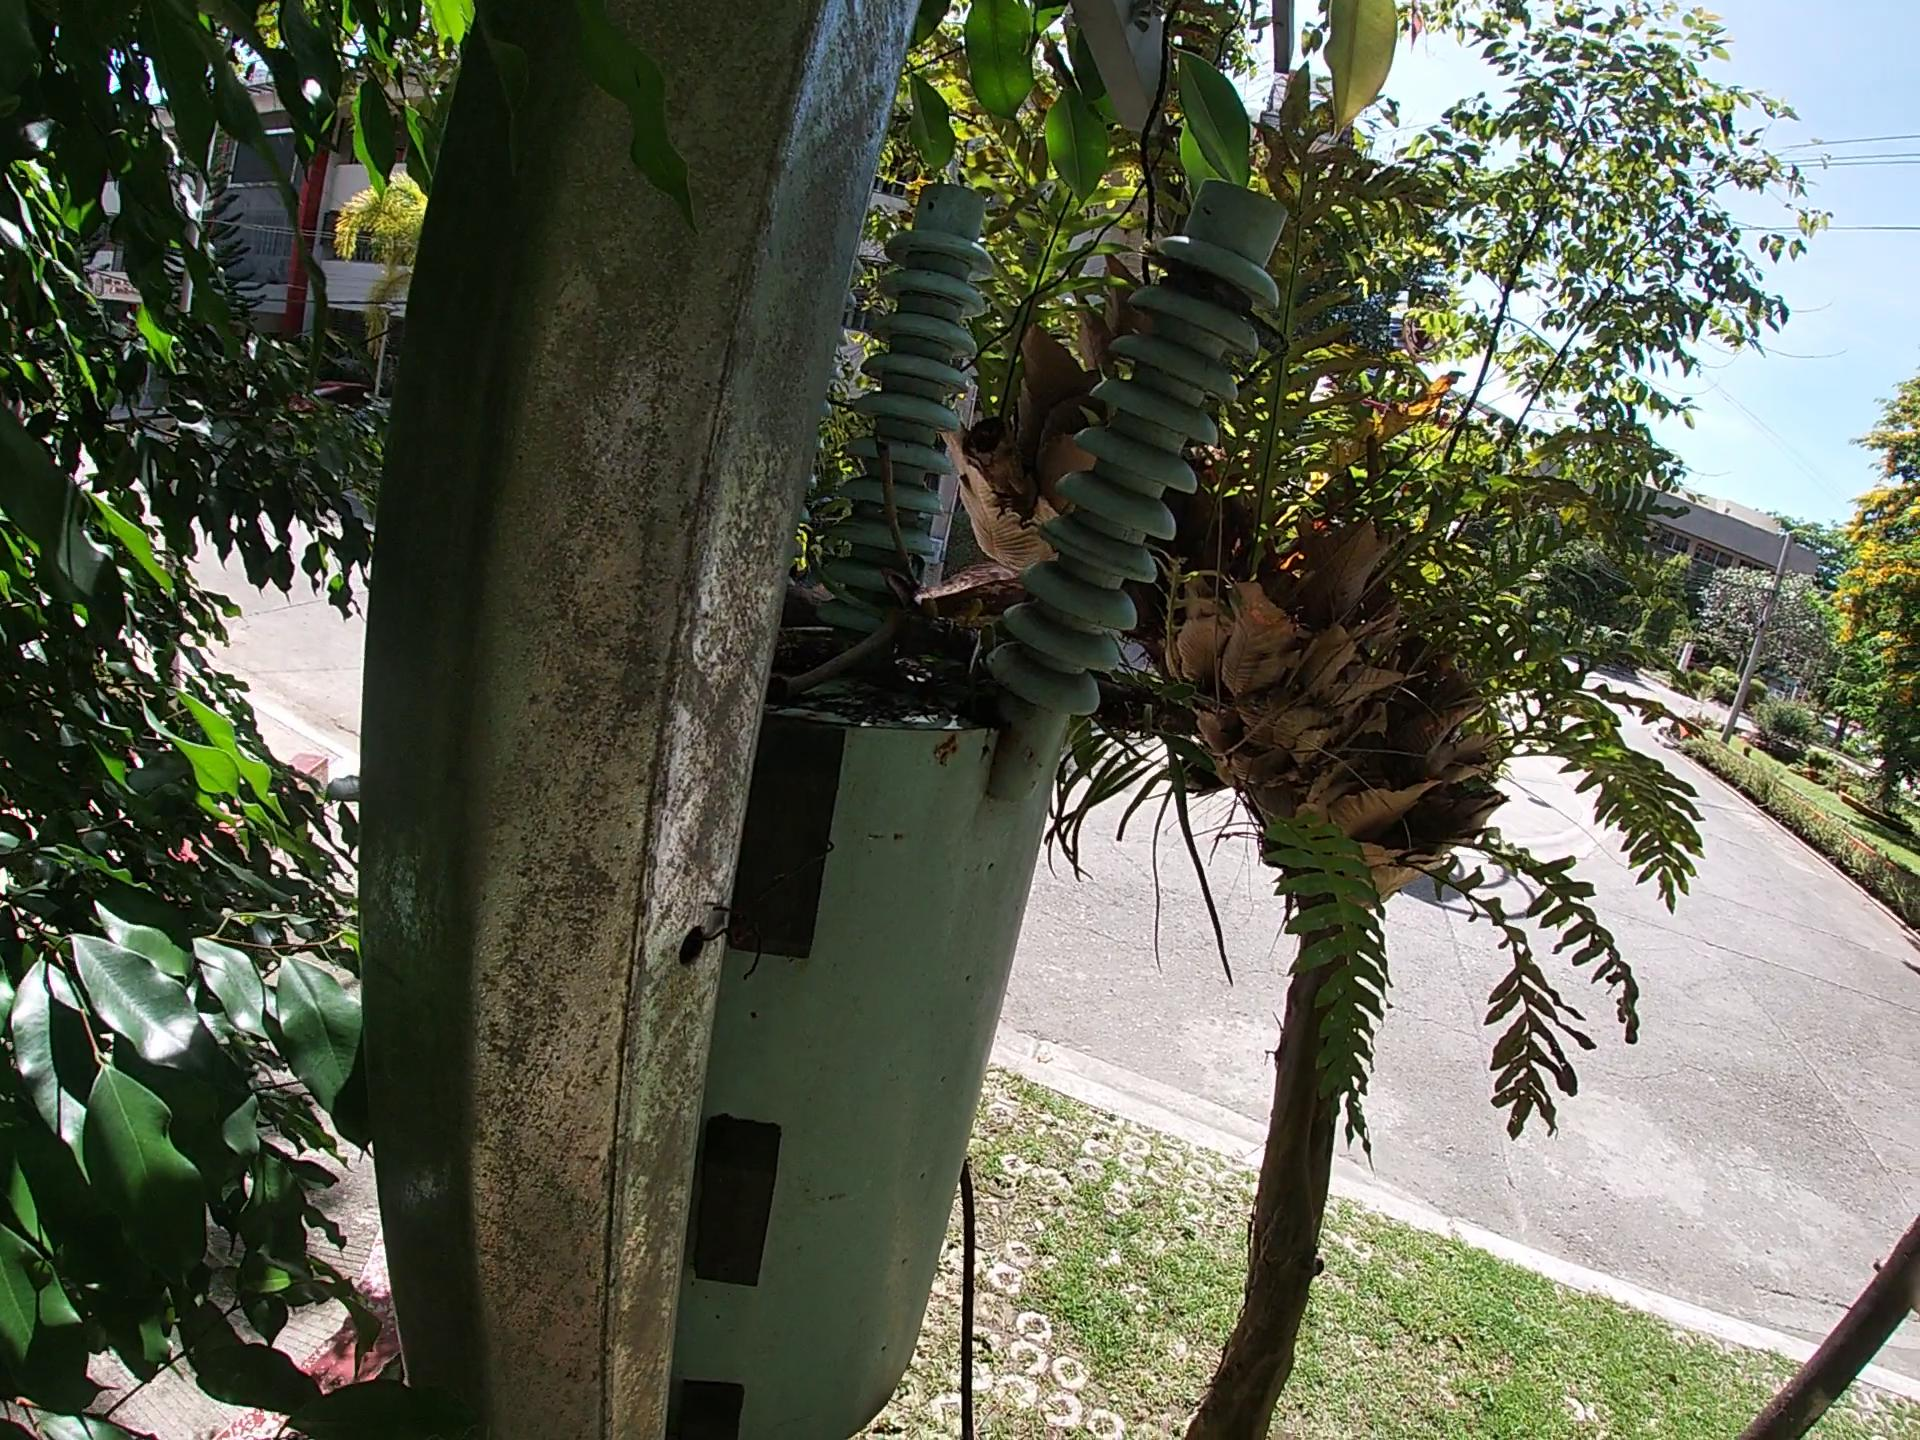branch with leaves: (819, 560, 1225, 787)
mahogany fruit: (828, 563, 939, 673)
tree branch: (779, 594, 963, 849)
